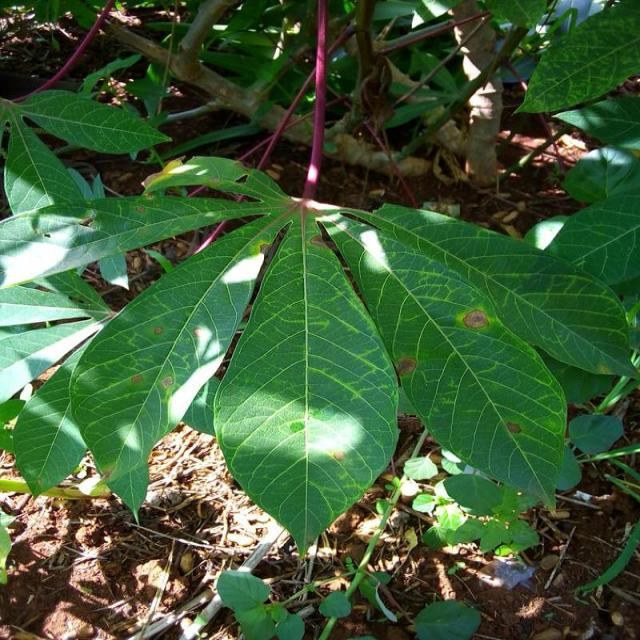cassava leaf: (319, 201, 634, 514), (69, 202, 296, 524), (213, 200, 401, 558)
